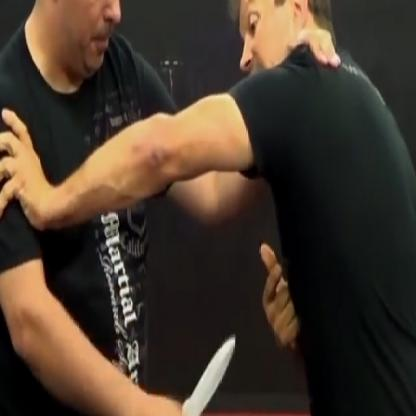knife: (141, 321, 239, 415)
